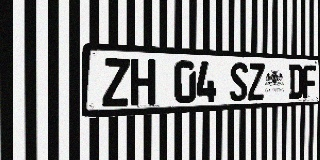0: (174, 60, 196, 104)
4: (196, 61, 216, 103)
D: (289, 64, 303, 99)
F: (303, 65, 316, 98)
H: (131, 59, 156, 106)
S: (230, 62, 248, 102)
Z: (102, 58, 130, 107), (248, 63, 264, 101)
